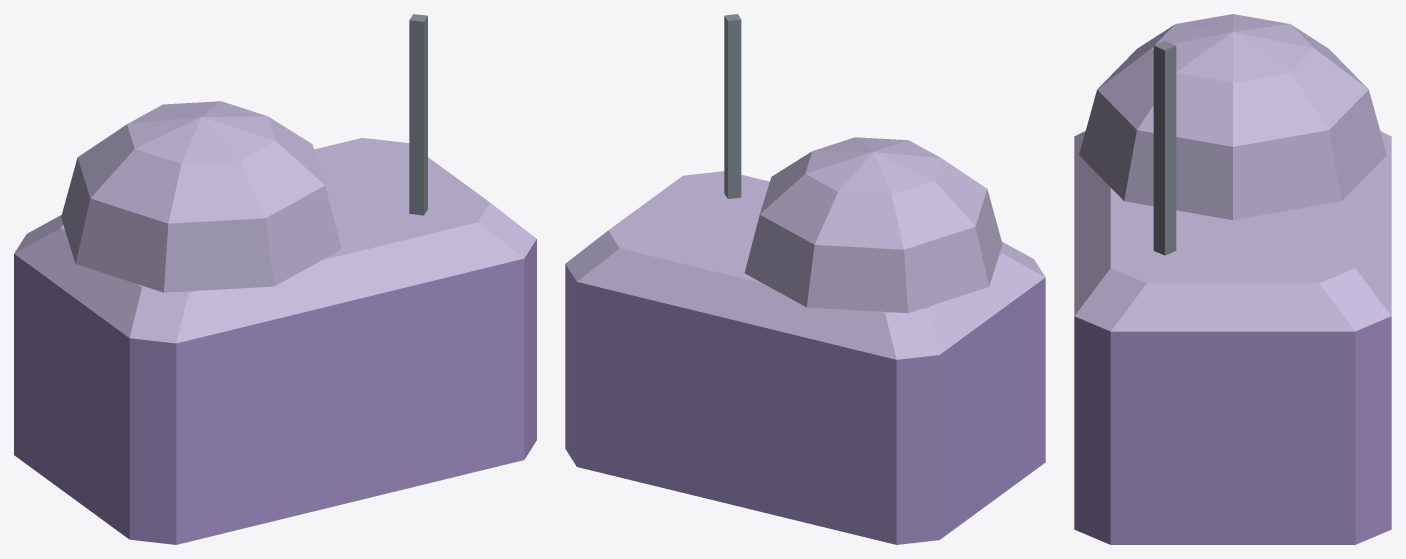
The model's file is Building5.glb.
3 renders of one model, left to right at view 1: azimuth 30°, elevation 25°; view 2: azimuth 150°, elevation 25°; view 3: azimuth 270°, elevation 25°, orthographic. The views are drawn at different scales.
Parts seen in each view (by area): view 1: Building5; view 2: Building5; view 3: Building5.
Boxes of the visible parts, x1,y1,x2,y2 form: Building5: (14, 14, 536, 544); Building5: (565, 14, 1045, 544); Building5: (1074, 14, 1391, 544).
Size of the model in its own units: 11 by 11 by 7.
